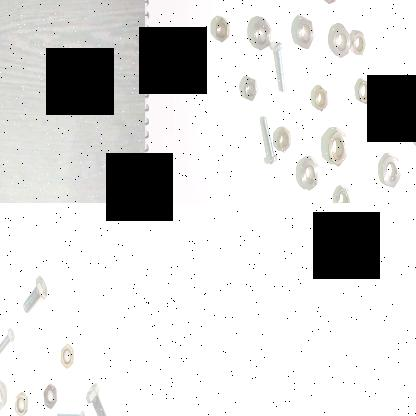Bolts: (256, 110, 278, 164), (20, 272, 48, 314), (84, 373, 109, 416), (272, 38, 286, 94), (0, 322, 17, 364), (54, 407, 87, 416)
NUTS: (326, 127, 350, 168), (376, 152, 402, 188), (329, 22, 353, 60), (250, 12, 271, 52), (298, 151, 318, 191), (38, 378, 60, 410), (10, 382, 30, 416), (296, 14, 314, 51), (56, 340, 76, 369), (351, 25, 367, 57), (276, 122, 291, 152), (396, 74, 411, 104), (357, 76, 371, 104), (214, 17, 229, 43), (314, 86, 328, 113), (0, 369, 8, 416), (334, 181, 350, 203), (243, 77, 257, 100), (412, 115, 416, 151)
